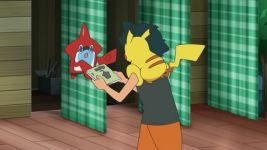pikachu: (123, 28, 210, 85)
